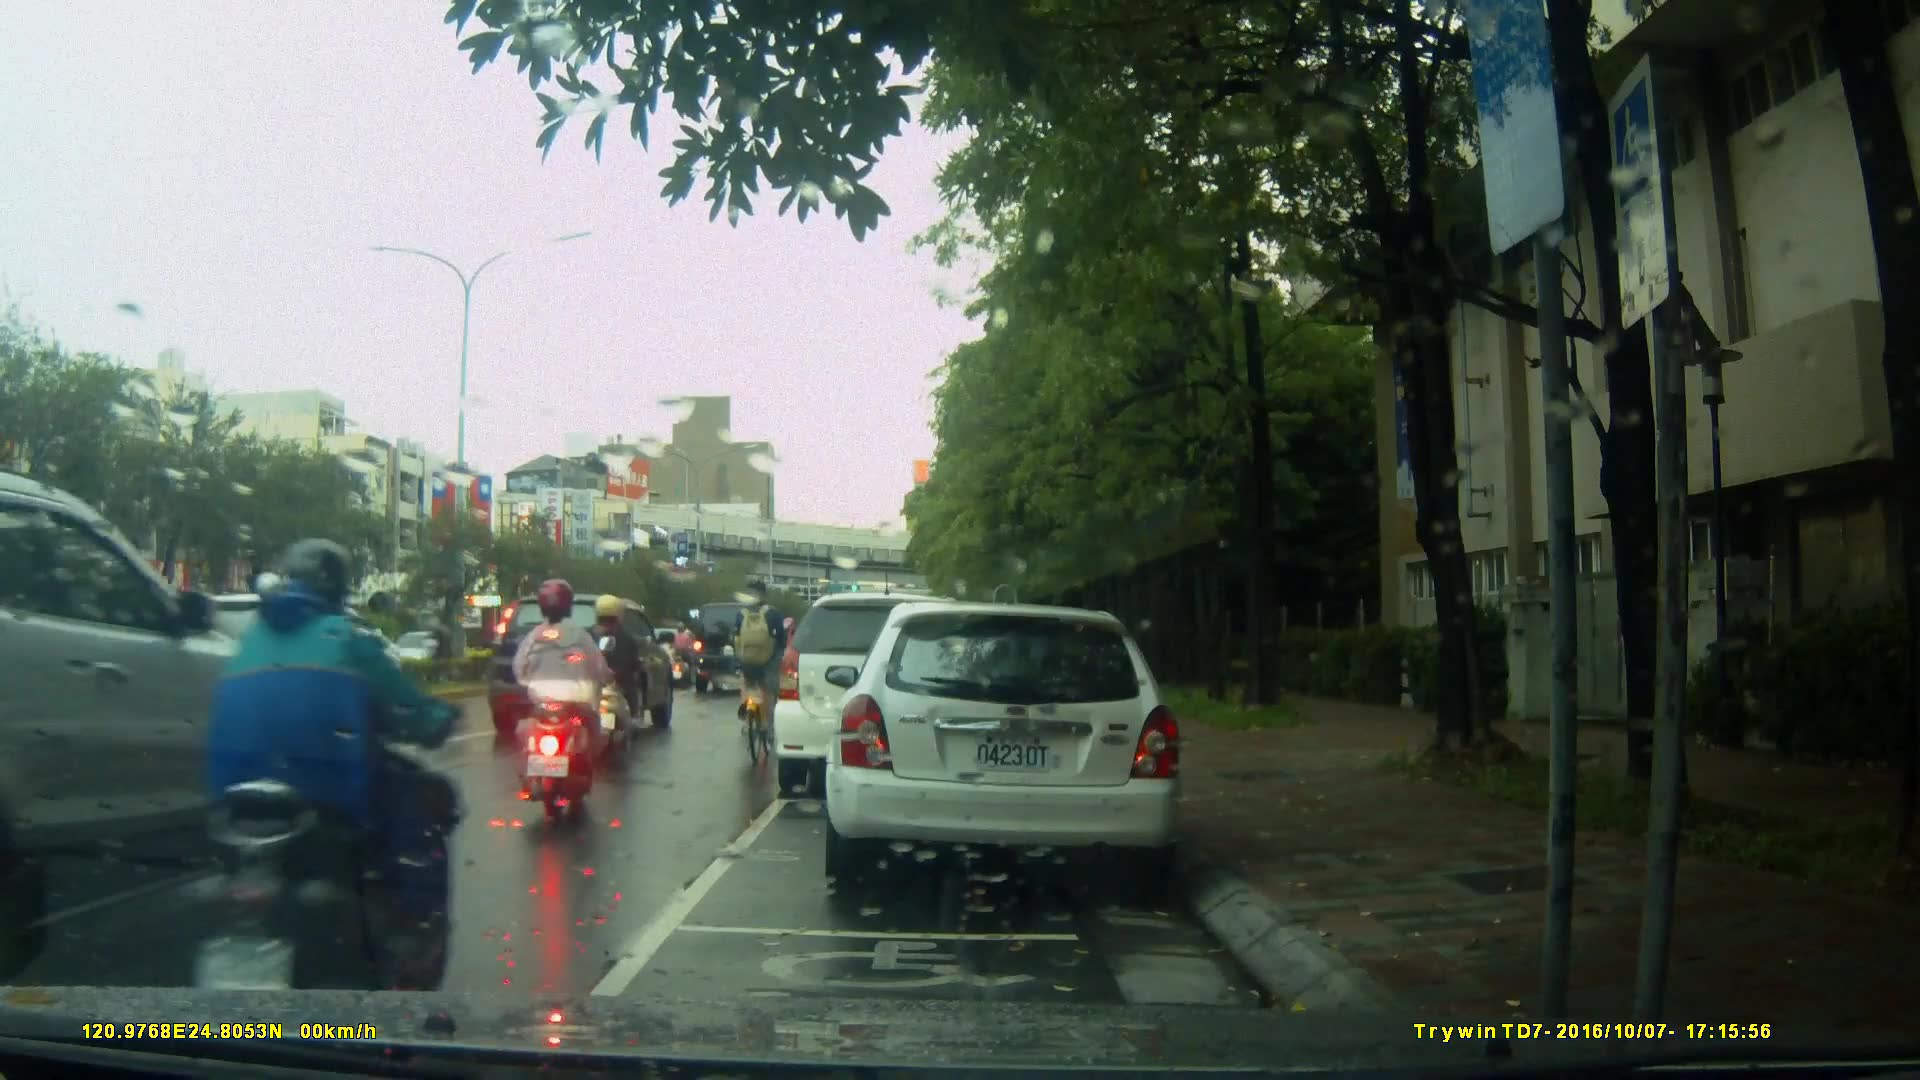rider: (194, 537, 461, 1052), (514, 579, 620, 819), (728, 581, 789, 766), (583, 592, 646, 762), (668, 619, 699, 688)
vehicle: (1, 471, 363, 989), (822, 604, 1188, 883), (774, 595, 995, 802), (482, 592, 678, 748)
